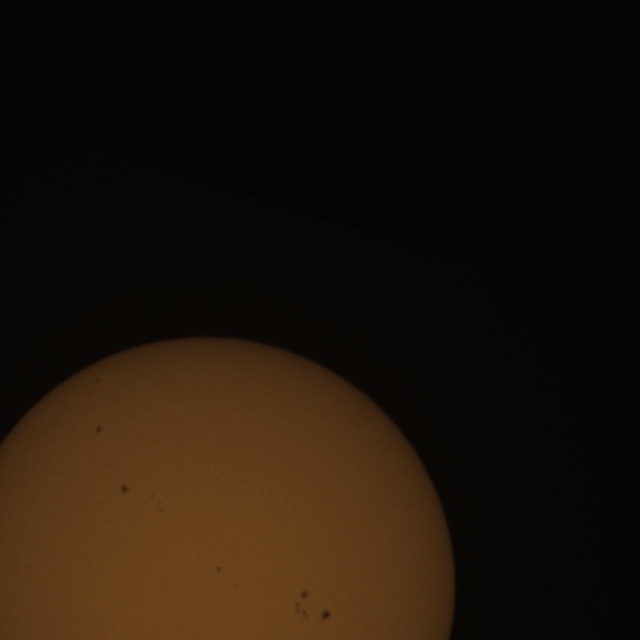sunspot: (293, 600, 334, 624), (294, 589, 312, 618), (320, 609, 332, 622), (120, 483, 130, 495), (95, 425, 103, 435), (215, 565, 223, 573)
